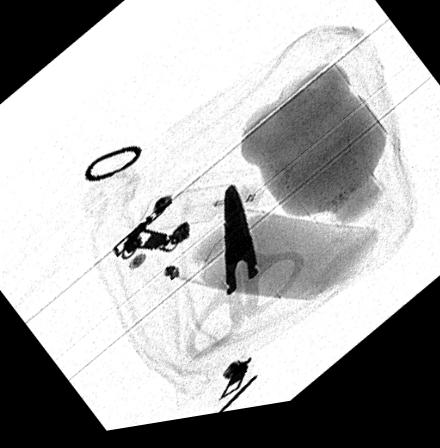Scissors: (179, 186, 311, 373)
